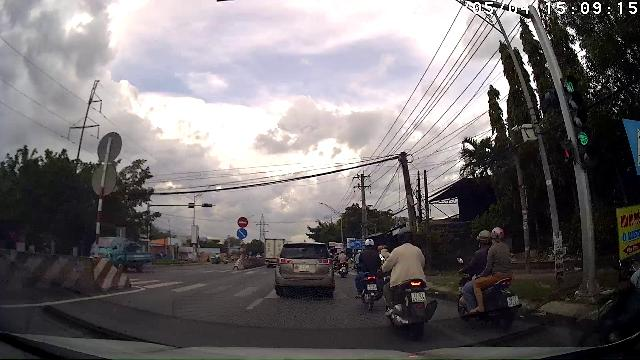102-cam-di-nguoc-chieu: (237, 216, 248, 228)
302a-huong-phai-di-vong-chuong-ngai-vat-1: (236, 228, 248, 239)
